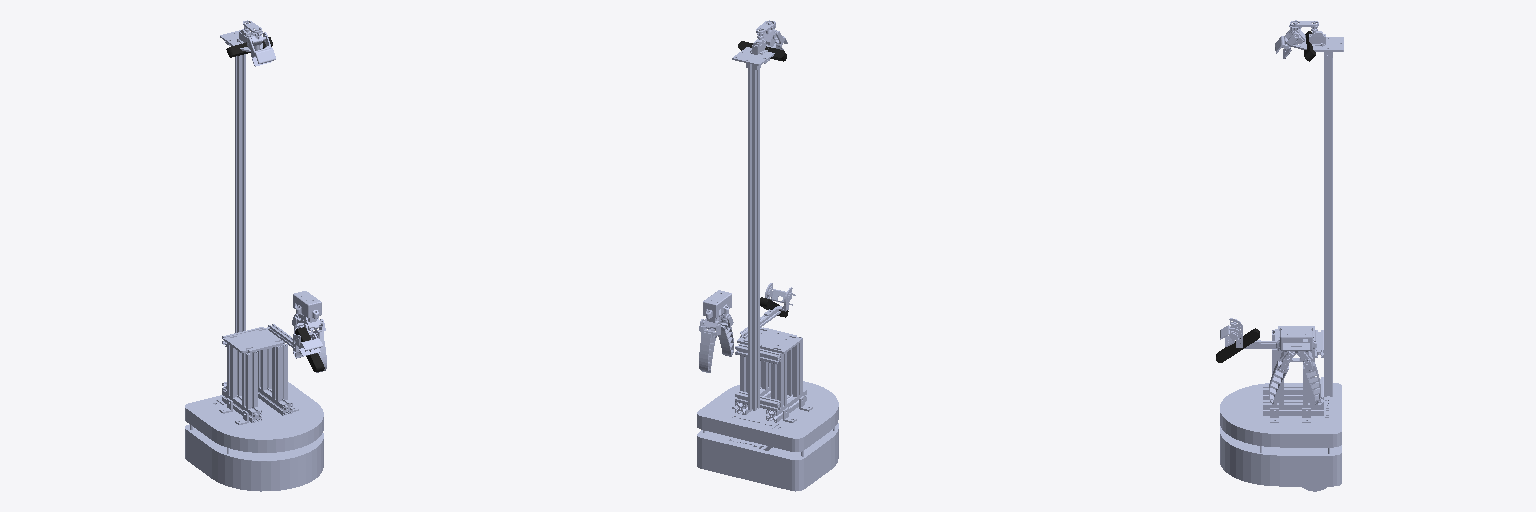
--- Render facts (derived) ---
3 views of the same robot in one strip: view 1: azimuth 30°, elevation 25°; view 2: azimuth 150°, elevation 25°; view 3: azimuth 270°, elevation 25° (orthographic).
Robot: dashgo — 32 links, 31 joints (11 revolute, 6 continuous, 2 prismatic, 12 fixed); root link internal_odom; default pose: all joints at 0 but 1 set to mid-range because 0 is outside their limits (Rev2Servo = 0.405).
Links seen in each view (by area): view 1: Base, Base_Gripper; view 2: Base, Base_Gripper; view 3: Base, Base_Gripper.
Boxes of the visible links, left/top/right/bottom form: Base: left=185, top=20, right=323, bottom=491; Base_Gripper: left=293, top=291, right=321, bottom=330; Base: left=697, top=20, right=838, bottom=491; Base_Gripper: left=703, top=290, right=731, bottom=330; Base: left=1220, top=20, right=1343, bottom=486; Base_Gripper: left=1276, top=330, right=1316, bottom=361.
Size in the robot's own frame: 0.4483 by 0.4312 by 1.66 metres.
Meshes: 25 distinct files referenced, 19 mesh visuals loaded (19 binary STL); not drawn: 6 (reference not matched to a file when rendering).

URDF robot description (dashgo):
<?xml version="1.0" ?>
<!-- =================================================================================== -->
<!-- |    This document was autogenerated by xacro from [local-path]/Desktop/Roborregos/Robocup-Home/catkin_home/src/robot_description/urdf/dashgo.urdf.xacro | -->
<!-- |    EDITING THIS FILE BY HAND IS NOT RECOMMENDED                                 | -->
<!-- =================================================================================== -->
<!-- This URDF was automatically created by SolidWorks to URDF Exporter! Originally created by Stephen Brawner ([email redacted]) 
     Commit Version: 1.6.0-4-g7f85cfe  Build Version: 1.6.7995.38578
     For more information, please see http://wiki.ros.org/sw_urdf_exporter -->
<robot name="dashgo">
    <virtual_joint child_link="internal_odom" name="world_joint" parent_frame="odom" type="planar" />
    <!-- ############################BASE_MOVEMENT############################## -->
    <link name="internal_odom" />
    <joint name="internal_odom_joint" type="fixed">
        <origin rpy="0 0 0" xyz="0 0 0" />
        <parent link="internal_odom" />
        <child link="internal_odom_inertia" />
    </joint>
    <link name="internal_odom_inertia">
        <inertial>
            <mass value="0.10" />
            <!--  assume as square, hence inertia = (1/12) * m * (a^2 + b^2)  -->
            <inertia ixx="0.000729" ixy="0" ixz="0" iyy="0.000729" iyz="0" izz="0.000729" />
        </inertial>
    </link>
    <joint name="odom_y" type="prismatic">
        <axis xyz="0 1 0" />
        <parent link="internal_odom_inertia" />
        <child link="odom_yx_link" />
        <limit effort="1" lower="0" upper="0" velocity="0.4" />
        <dynamics damping="0.7" friction="2" />
    </joint>
    <link name="odom_yx_link">
        <inertial>
            <mass value="0.10" />
            <!--  assume as square, hence inertia = (1/12) * m * (a^2 + b^2)  -->
            <inertia ixx="0.000729" ixy="0" ixz="0" iyy="0.000729" iyz="0" izz="0.000729" />
        </inertial>
    </link>
    <joint name="odom_x" type="prismatic">
        <axis xyz="1 0 0" />
        <parent link="odom_yx_link" />
        <child link="odom_xr_link" />
        <limit effort="1" lower="-10" upper="10" velocity="0.4" />
        <dynamics damping="0.7" friction="2" />
    </joint>
    <link name="odom_xr_link">
        <inertial>
            <mass value="0.10" />
            <!--  assume as square, hence inertia = (1/12) * m * (a^2 + b^2)  -->
            <inertia ixx="0.000729" ixy="0" ixz="0" iyy="0.000729" iyz="0" izz="0.000729" />
        </inertial>
    </link>
    <joint name="odom_r" type="revolute">
        <axis xyz="0 0 1" />
        <parent link="odom_xr_link" />
        <child link="base_link" />
        <limit effort="1" lower="-6.2832" upper="6.2832" velocity="0.4" />
        <dynamics damping="0.7" friction="2" />
    </joint>
    <!-- ########################################################################### -->
    <link name="base_link" />
    <link name="Base">
        <inertial>
            <origin rpy="0 0 0" xyz="0.00112427313846248 0.0541261508672339 0.24050906361582" />
            <mass value="5.93374358050292" />
            <inertia ixx="0.102381643014475" ixy="-2.49686782363747E-05" ixz="7.32458903286202E-10" iyy="0.103854959010774" iyz="0.000125261050360604" izz="0.0793094023514086" />
        </inertial>
        <visual>
            <origin rpy="0 0 0" xyz="0 0 0" />
            <geometry>
                <mesh filename="package://robot_description/meshes/Dashgo/Base.STL" />
            </geometry>
            <material name="">
                <color rgba="0.792156862745098 0.819607843137255 0.933333333333333 1" />
            </material>
        </visual>
        <collision>
            <origin rpy="0 0 0" xyz="0 0 0" />
            <geometry>
                <mesh filename="package://robot_description/meshes/Dashgo/Base.STL" />
            </geometry>
        </collision>
    </link>
    <joint name="base_joint" type="fixed">
        <origin rpy="0 0 0" xyz="0 0 0" />
        <parent link="base_link" />
        <child link="Base" />
    </joint>
    <link name="Llanta1">
        <inertial>
            <origin rpy="0 0 0" xyz="3.88578058618805E-16 6.52256026967279E-16 0.0200000000000003" />
            <mass value="0.528918539158378" />
            <inertia ixx="0.000631308353030454" ixy="-1.64320882748444E-36" ixz="1.72050413075699E-18" iyy="0.000631308353030454" iyz="-1.04568558444466E-36" izz="0.00112157176228534" />
        </inertial>
        <visual>
            <origin rpy="0 0 0" xyz="0 0 0" />
            <geometry>
                <mesh filename="package://robot_description/meshes/Dashgo/Llanta1.STL" />
            </geometry>
            <material name="">
                <color rgba="0.792156862745098 0.819607843137255 0.933333333333333 1" />
            </material>
        </visual>
        <collision>
            <origin rpy="0 0 0" xyz="0 0 0" />
            <geometry>
                <mesh filename="package://robot_description/meshes/Dashgo/Llanta1.STL" />
            </geometry>
        </collision>
    </link>
    <joint name="Llanta1Cont" type="continuous">
        <origin rpy="1.5707963267949 0 1.5707963267949" xyz="0.145999999999999 0.1155 0.0375" />
        <parent link="Base" />
        <child link="Llanta1" />
        <axis xyz="0 0 1" />
    </joint>
    <link name="Llanta2">
        <inertial>
            <origin rpy="0 0 0" xyz="-1.38777878078145E-17 -1.11022302462516E-16 -0.02" />
            <mass value="0.528918539158378" />
            <inertia ixx="0.000631308353030454" ixy="-8.470329472543E-22" ixz="-9.10263751530836E-20" iyy="0.000631308353030454" iyz="4.50857846912387E-20" izz="0.00112157176228534" />
        </inertial>
        <visual>
            <origin rpy="0 0 0" xyz="0 0 0" />
            <geometry>
                <mesh filename="package://robot_description/meshes/Dashgo/Llanta2.STL" />
            </geometry>
            <material name="">
                <color rgba="0.792156862745098 0.819607843137255 0.933333333333333 1" />
            </material>
        </visual>
        <collision>
            <origin rpy="0 0 0" xyz="0 0 0" />
            <geometry>
                <mesh filename="package://robot_description/meshes/Dashgo/Llanta2.STL" />
            </geometry>
        </collision>
    </link>
    <joint name="Llanta2Cont" type="continuous">
        <origin rpy="1.5707963267949 0.0209487637131551 1.5707963267949" xyz="-0.146 0.1155 0.0375" />
        <parent link="Base" />
        <child link="Llanta2" />
        <axis xyz="0 0 1" />
    </joint>
    <link name="Loca1">
        <inertial>
            <origin rpy="0 0 0" xyz="0 0.0345546529721542 -2.77555756156289E-17" />
            <mass value="0.0167352759899297" />
            <inertia ixx="7.54150196205056E-06" ixy="1.16160786447369E-21" ixz="-8.76254817321673E-22" iyy="5.85653067123054E-06" iyz="-1.79120955050736E-21" izz="7.09027556219276E-06" />
        </inertial>
        <visual>
            <origin rpy="0 0 0" xyz="0 0 0" />
            <geometry>
                <mesh filename="package://robot_description/meshes/Dashgo/Loca1.STL" />
            </geometry>
            <material name="">
                <color rgba="0.792156862745098 0.819607843137255 0.933333333333333 1" />
            </material>
        </visual>
        <collision>
            <origin rpy="0 0 0" xyz="0 0 0" />
            <geometry>
                <mesh filename="package://robot_description/meshes/Dashgo/Loca1.STL" />
            </geometry>
        </collision>
    </link>
    <joint name="Loca1Cont" type="continuous">
        <origin rpy="1.5707963267949 0 0" xyz="-0.09 -0.072 0" />
        <parent link="Base" />
        <child link="Loca1" />
        <axis xyz="0 1 0" />
    </joint>
    <link name="LlantaLoca1">
        <inertial>
            <origin rpy="0 0 0" xyz="1.38777878078145E-17 -0.00741632050454701 1.38777878078145E-17" />
            <mass value="0.0694291976443345" />
            <inertia ixx="3.17985725211052E-05" ixy="-5.21349495168481E-38" ixz="3.52930394689292E-22" iyy="1.95153903045283E-05" iyz="7.67877008722515E-41" izz="1.95153903045283E-05" />
        </inertial>
        <visual>
            <origin rpy="0 0 0" xyz="0 0 0" />
            <geometry>
                <mesh filename="package://robot_description/meshes/Dashgo/LlantaLoca1.STL" />
            </geometry>
            <material name="">
                <color rgba="0.792156862745098 0.819607843137255 0.933333333333333 1" />
            </material>
        </visual>
        <collision>
            <origin rpy="0 0 0" xyz="0 0 0" />
            <geometry>
                <mesh filename="package://robot_description/meshes/Dashgo/LlantaLoca1.STL" />
            </geometry>
        </collision>
    </link>
    <joint name="LlantaLoca1Cont" type="continuous">
        <origin rpy="0 0 0" xyz="0 0.01 0" />
        <parent link="Loca1" />
        <child link="LlantaLoca1" />
        <axis xyz="1 0 0" />
    </joint>
    <link name="Loca2">
        <inertial>
            <origin rpy="0 0 0" xyz="1.38777878078145E-17 0.0345546529721542 2.77555756156289E-17" />
            <mass value="0.0167352759899297" />
            <inertia ixx="7.54150196205057E-06" ixy="-2.55901620932607E-21" ixz="3.17637355220363E-22" iyy="5.85653067123054E-06" iyz="2.07178253258396E-21" izz="7.09027556219276E-06" />
        </inertial>
        <visual>
            <origin rpy="0 0 0" xyz="0 0 0" />
            <geometry>
                <mesh filename="package://robot_description/meshes/Dashgo/Loca2.STL" />
            </geometry>
            <material name="">
                <color rgba="0.792156862745098 0.819607843137255 0.933333333333333 1" />
            </material>
        </visual>
        <collision>
            <origin rpy="0 0 0" xyz="0 0 0" />
            <geometry>
                <mesh filename="package://robot_description/meshes/Dashgo/Loca2.STL" />
            </geometry>
        </collision>
    </link>
    <joint name="Loca2Cont" type="continuous">
        <origin rpy="1.5707963267949 0 0.119243381039157" xyz="0.09 -0.072 0" />
        <parent link="Base" />
        <child link="Loca2" />
        <axis xyz="0 1 0" />
    </joint>
    <link name="LlantaLoca2">
        <inertial>
            <origin rpy="0 0 0" xyz="0 -0.00469061857919597 -0.00574455456677592" />
            <mass value="0.0694291976443344" />
            <inertia ixx="3.17985725211052E-05" ixy="-8.78796682776337E-21" ixz="8.470329472543E-22" iyy="1.95153903045283E-05" iyz="-1.6940658945086E-21" izz="1.95153903045284E-05" />
        </inertial>
        <visual>
            <origin rpy="0 0 0" xyz="0 0 0" />
            <geometry>
                <mesh filename="package://robot_description/meshes/Dashgo/LlantaLoca2.STL" />
            </geometry>
            <material name="">
                <color rgba="0.792156862745098 0.819607843137255 0.933333333333333 1" />
            </material>
        </visual>
        <collision>
            <origin rpy="0 0 0" xyz="0 0 0" />
            <geometry>
                <mesh filename="package://robot_description/meshes/Dashgo/LlantaLoca2.STL" />
            </geometry>
        </collision>
    </link>
    <joint name="LlantaLoca2Cont" type="continuous">
        <origin rpy="-0.886055251315474 0 0" xyz="0 0.01 0" />
        <parent link="Loca2" />
        <child link="LlantaLoca2" />
        <axis xyz="1 0 0" />
    </joint>
    <link name="Lidar">
        <inertial>
            <origin rpy="0 0 0" xyz="-9.49517221724887E-50 0.0125 -1.38777878078145E-17" />
            <mass value="0.0962112750161874" />
            <inertia ixx="3.44757068808005E-05" ixy="8.13422838622583E-38" ixz="1.3254524700622E-52" iyy="5.89294059474148E-05" iyz="-6.00991536754997E-37" izz="3.44757068808005E-05" />
        </inertial>
        <visual>
            <origin rpy="0 0 0" xyz="0 0 0" />
            <geometry>
                <mesh filename="package://robot_description/meshes/Dashgo/Lidar.STL" />
            </geometry>
            <material name="">
                <color rgba="0.792156862745098 0.819607843137255 0.933333333333333 1" />
            </material>
        </visual>
        <collision>
            <origin rpy="0 0 0" xyz="0 0 0" />
            <geometry>
                <mesh filename="package://robot_description/meshes/Dashgo/Lidar.STL" />
            </geometry>
        </collision>
    </link>
    <joint name="Lidar1Cont" type="fixed">
        <origin rpy="1.5707963267949 0 0" xyz="0 -0.11 0.12" />
        <parent link="Base" />
        <child link="Lidar" />
    </joint>
    <link name="RevCam1">
        <inertial>
            <origin rpy="0 0 0" xyz="-0.00218640113558178 0.0383778465870379 -0.00515828443968216" />
            <mass value="0.0807173201754215" />
            <inertia ixx="2.37796512993046E-05" ixy="8.55530391588451E-07" ixz="-2.49698267928072E-07" iyy="1.83589770932126E-05" iyz="-4.19202714077016E-06" izz="2.27836705307722E-05" />
        </inertial>
        <visual>
            <origin rpy="0 0 0" xyz="0 0 0" />
            <geometry>
                <mesh filename="package://robot_description/meshes/Dashgo/RevCam1.STL" />
            </geometry>
            <material name="">
                <color rgba="0.792156862745098 0.819607843137255 0.933333333333333 1" />
            </material>
        </visual>
        <collision>
            <origin rpy="0 0 0" xyz="0 0 0" />
            <geometry>
                <mesh filename="package://robot_description/meshes/Dashgo/RevCam1.STL" />
            </geometry>
        </collision>
    </link>
    <joint name="Cam1Rev1" type="revolute">
        <origin rpy="1.5708 0 0.034703" xyz="0.001 0.0505 1.545" />
        <parent link="Base" />
        <child link="RevCam1" />
        <axis xyz="0 1 0" />
        <limit effort="0" lower="-0.5236" upper="0.5236" velocity="0" />
    </joint>
    <link name="RevCam2">
        <inertial>
            <origin rpy="0 0 0" xyz="-0.00391793043436037 -0.0102932368661919 0.0320850186207662" />
            <mass value="0.0649807233686399" />
            <inertia ixx="2.601013236039E-05" ixy="-1.98669220487697E-07" ixz="-5.07308429498073E-06" iyy="4.18390847409689E-05" iyz="3.16753039765753E-07" izz="3.84670102617888E-05" />
        </inertial>
        <visual>
            <origin rpy="0 0 0" xyz="0 0 0" />
            <geometry>
                <mesh filename="package://robot_description/meshes/Dashgo/RevCam2.STL" />
            </geometry>
            <material name="">
                <color rgba="0.792156862745098 0.819607843137255 0.933333333333333 1" />
            </material>
        </visual>
        <collision>
            <origin rpy="0 0 0" xyz="0 0 0" />
            <geometry>
                <mesh filename="package://robot_description/meshes/Dashgo/RevCam2.STL" />
            </geometry>
        </collision>
    </link>
    <joint name="Cam1Rev2" type="revolute">
        <origin rpy="0.0 0.0 0.0" xyz="0 0.05 0" />
        <parent link="RevCam1" />
        <child link="RevCam2" />
        <axis xyz="0.9913 0 0.13162" />
        <limit effort="0" lower="-0.5236" upper="0.5236" velocity="0" />
    </joint>
    <link name="Cam1">
        <inertial>
            <origin rpy="0 0 0" xyz="0.0 0.0 0.0" />
            <mass value="0.152258268245259" />
            <inertia ixx="2.28182702795267E-05" ixy="-2.56241481012795E-09" ixz="-6.38770400261561E-09" iyy="0.000372324880916607" iyz="-3.15065555476608E-08" izz="0.000374741839243315" />
        </inertial>
        <visual>
            <origin rpy="3.1416 3.1416 1.57" xyz="-0.02 0 -0.035" />
            <geometry>
                <mesh filename="package://robot_description/meshes/Dashgo/Cam1.STL" />
            </geometry>
            <material name="">
                <color rgba="0.176470588235294 0.176470588235294 0.176470588235294 1" />
            </material>
        </visual>
        <collision>
            <origin rpy="0 0 0" xyz="0 0 0" />
            <geometry>
                <mesh filename="package://robot_description/meshes/Dashgo/Cam1.STL" />
            </geometry>
        </collision>
    </link>
    <joint name="Cam1Fix" type="fixed">
        <origin rpy="0 0.822 -1.54" xyz="0.001 0.1 1.5325" />
        <parent link="Base" />
        <child link="Cam1" />
        <axis xyz="0 0 0" />
    </joint>
    <link name="BaseBrazo">
        <inertial>
            <origin rpy="0 0 0" xyz="3.67638287580227E-16 4.9999999999939E-05 -6.24500451351651E-17" />
            <mass value="0.00121022002997899" />
            <inertia ixx="1.17272637070328E-06" ixy="6.31088724176809E-28" ixz="-2.66571877092316E-23" iyy="2.34545072437318E-06" iyz="8.8102553557097E-43" izz="1.17272637070328E-06" />
        </inertial>
        <visual>
            <origin rpy="0 0 0" xyz="0 0 0" />
            <geometry>
                <mesh filename="package://robot_description/meshes/Dashgo/BaseBrazo.STL" />
            </geometry>
            <material name="">
                <color rgba="0.792156862745098 0.819607843137255 0.933333333333333 1" />
            </material>
        </visual>
        <collision>
            <origin rpy="0 0 0" xyz="0 0 0" />
            <geometry>
                <mesh filename="package://robot_description/meshes/Dashgo/BaseBrazo.STL" />
            </geometry>
        </collision>
    </link>
    <joint name="Bra1Fix" type="fixed">
        <origin rpy="0 0 0" xyz="0 0.054 0.458" />
        <parent link="Base" />
        <child link="BaseBrazo" />
        <axis xyz="0 0 0" />
    </joint>
    <link name="Cam2Rev">
        <inertial>
            <origin rpy="0 0 0" xyz="0.00682985175837994 -0.000385575645117986 -0.0349999944296163" />
            <mass value="0.034811214257021" />
            <inertia ixx="2.55962188508613E-05" ixy="-2.57231687004444E-08" ixz="-1.01276020904133E-12" iyy="2.69230048658024E-05" iyz="-2.47763740414839E-12" izz="1.54258334654207E-05" />
        </inertial>
        <visual>
            <origin rpy="0 0 0" xyz="0 0 0" />
            <geometry>
                <mesh filename="package://robot_description/meshes/Dashgo/Cam2Rev.STL" />
            </geometry>
            <material name="">
                <color rgba="0.792156862745098 0.819607843137255 0.933333333333333 1" />
            </material>
        </visual>
        <collision>
            <origin rpy="0 0 0" xyz="0 0 0" />
            <geometry>
                <mesh filename="package://robot_description/meshes/Dashgo/Cam2Rev.STL" />
            </geometry>
        </collision>
    </link>
    <joint name="Cam2Rev" type="revolute">
        <origin rpy="-1.5708 0.52947 -1.5708" xyz="0.1175 -0.16539 0.50877" />
        <parent link="Base" />
        <child link="Cam2Rev" />
        <axis xyz="0 0 1" />
        <limit effort="0" lower="-0.5236" upper="0.5236" velocity="0" />
    </joint>
    <link name="Cam2">
        <inertial>
            <origin rpy="0 0 0" xyz="2.78178449257538E-06 0.0154104478086763 0.043479722430293" />
            <mass value="0.152258366821035" />
            <inertia ixx="2.28178239715899E-05" ixy="-2.07069498673643E-09" ixz="-6.33175797043533E-09" iyy="0.000372337777425285" iyz="-1.79769097625592E-07" izz="0.000374729108133576" />
        </inertial>
        <visual>
            <origin rpy="0 0 0" xyz="0 0 0" />
            <geometry>
                <mesh filename="package://robot_description/meshes/Dashgo/Cam2.STL" />
            </geometry>
            <material name="">
                <color rgba="0.176470588235294 0.176470588235294 0.176470588235294 1" />
            </material>
        </visual>
        <collision>
            <origin rpy="0 0 0" xyz="0 0 0" />
            <geometry>
                <mesh filename="package://robot_description/meshes/Dashgo/Cam2.STL" />
            </geometry>
        </collision>
    </link>
    <joint name="Cam2Fixed" type="fixed">
        <origin rpy="1.47657636910629 1.5707963267949 0" xyz="-0.0015140313995038 0.0417760943111851 -0.034999943378925" />
        <parent link="Cam2Rev" />
        <child link="Cam2" />
        <axis xyz="0 0 0" />
    </joint>
    <!--
  Author: Jason Peng <[email redacted]>
  Contributers:
-->
    <gazebo>
        <plugin filename="libgazebo_ros_control.so" name="gazebo_ros_control">
            <robotNamespace>/xarm</robotNamespace>
            <!-- <controlPeriod>0.0001</controlPeriod> -->
            <robotSimType>gazebo_ros_control/DefaultRobotHWSim</robotSimType>
            <legacyModeNS>true</legacyModeNS>
            <!-- <preserveWorldVelocity>true</preserveWorldVelocity> -->
        </plugin>
    </gazebo>
    <joint name="world_joint" type="fixed">
        <parent link="BaseBrazo" />
        <child link="link_base" />
        <origin rpy="0 0 0" xyz="0 0 0" />
    </joint>
    <material name="Black">
        <color rgba="0.0 0.0 0.0 1.0" />
    </material>
    <material name="Red">
        <color rgba="0.8 0.0 0.0 1.0" />
    </material>
    <material name="White">
        <color rgba="1.0 1.0 1.0 1.0" />
    </material>
    <material name="Silver">
        <color rgba="0.753 0.753 0.753 1.0" />
    </material>
    <link name="link_base">
        <inertial>
            <origin rpy="0 0 0" xyz="-0.00218 -0.00023 0.08604" />
            <mass value="1.95" />
            <inertia ixx="0.004805" ixy="-8.33E-06" ixz="0.00026847" iyy="0.0050349" iyz="7.23E-06" izz="0.0025418" />
        </inertial>
        <visual>
            <origin rpy="0 0 0" xyz="0 0 0" />
            <geometry>
                <mesh filename="package://xarm_description/meshes/xarm5/visual/base_link.STL" />
            </geometry>
            <material name="White" />
        </visual>
        <collision>
            <origin rpy="0 0 0" xyz="0 0 0" />
            <geometry>
                <mesh filename="package://xarm_description/meshes/xarm5/visual/base_link.STL" />
            </geometry>
        </collision>
    </link>
    <link name="link1">
        <inertial>
            <origin rpy="0 0 0" xyz="0.00016 0.02064 -0.01556" />
            <mass value="1.85" />
            <inertia ixx="0.0046885" ixy="-8.67E-06" ixz="2.439E-05" iyy="0.0041688" iyz="0.0006114" izz="0.0024758" />
        </inertial>
        <visual>
            <origin rpy="0 0 0" xyz="0 0 0" />
            <geometry>
                <mesh filename="package://xarm_description/meshes/xarm5/visual/link1.STL" />
            </geometry>
            <material name="White" />
        </visual>
        <collision>
            <origin rpy="0 0 0" xyz="0 0 0" />
            <geometry>
                <mesh filename="package://xarm_description/meshes/xarm5/visual/link1.STL" />
            </geometry>
        </collision>
    </link>
    <joint name="joint1" type="revolute">
        <origin rpy="0 0 0" xyz="0 0 0.267" />
        <parent link="link_base" />
        <child link="link1" />
        <axis xyz="0 0 1" />
        <limit effort="50" lower="-6.283185307179586" upper="6.283185307179586" velocity="3.14" />
        <dynamics damping="10" friction="1" />
    </joint>
    <link name="link2">
        <inertial>
            <origin rpy="0 0 0" xyz="0.0351 -0.21375 0.02835" />
            <mass value="1.71" />
            <inertia ixx="0.024904" ixy="-0.004271" ixz="-0.0008356" iyy="0.004901" iyz="0.0052393" izz="0.0238188" />
        </inertial>
        <visual>
            <origin rpy="0 0 0" xyz="0 0 0" />
            <geometry>
                <mesh filename="package://xarm_description/meshes/xarm5/visual/link2.STL" />
            </geometry>
            <material name="White" />
        </visual>
        <collision>
            <origin rpy="0 0 0" xyz="0 0 0" />
            <geometry>
                <mesh filename="package://xarm_description/meshes/xarm5/visual/link2.STL" />
            </geometry>
        </collision>
    </link>
    <joint name="joint2" type="revolute">
        <origin rpy="-1.5708 0 0" xyz="0 0 0" />
        <parent link="link1" />
        <child link="link2" />
        <axis xyz="0 0 1" />
        <limit effort="50" lower="-2.059" upper="2.0944" velocity="3.14" />
        <dynamics damping="10" friction="1" />
    </joint>
    <link name="link3">
        <inertial>
            <origin rpy="0 0 0" xyz="0.06716 0.2299 -0.00249" />
            <mass value="1.74" />
            <inertia ixx="0.0335922" ixy="0.0040788" ixz="-0.0014658" iyy="0.0055857" iyz="-0.0080609" izz="0.0318905" />
        </inertial>
        <visual>
            <origin rpy="0 0 0" xyz="0 0 0" />
            <geometry>
                <mesh filename="package://xarm_description/meshes/xarm5/visual/link3.STL" />
            </geometry>
            <material name="White" />
        </visual>
        <collision>
            <origin rpy="0 0 0" xyz="0 0 0" />
            <geometry>
                <mesh filename="package://xarm_description/meshes/xarm5/visual/link3.STL" />
            </geometry>
        </collision>
    </link>
    <joint name="joint3" type="revolute">
        <origin rpy="0 0 0" xyz="0.0535 -0.2845 0" />
        <parent link="link2" />
        <child link="link3" />
        <axis xyz="0 0 1" />
        <limit effort="30" lower="-3.927" upper="0.19198" velocity="3.14" />
        <dynamics damping="5" friction="1" />
    </joint>
    <link name="link4">
        <inertial>
            <origin rpy="0 0 0" xyz="0.0636 0.02203 0.00355" />
            <mass value="1.13" />
            <inertia ixx="0.0010927" ixy="0.0003076" ixz="-0.0002076" iyy="0.0016058" iyz="-8.863E-05" izz="0.0019148" />
        </inertial>
        <visual>
            <origin rpy="0 0 0" xyz="0 0 0" />
            <geometry>
                <mesh filename="package://xarm_description/meshes/xarm5/visual/link4.STL" />
            </geometry>
            <material name="White" />
        </visual>
        <collision>
            <origin rpy="0 0 0" xyz="0 0 0" />
            <geometry>
                <mesh filename="package://xarm_description/meshes/xarm5/visual/link4.STL" />
            </geometry>
        </collision>
    </link>
    <joint name="joint4" type="revolute">
        <origin rpy="0 0 0" xyz="0.0775 0.3425 0" />
        <parent link="link3" />
        <child link="link4" />
        <axis xyz="0 0 1" />
        <limit effort="20" lower="-1.69297" upper="3.141592653589793" velocity="3.14" />
        <dynamics damping="3" friction="1" />
    </joint>
    <link name="link5">
        <inertial>
            <origin rpy="0 0 0" xyz="-3E-05 -0.00677 -0.01098" />
            <mass value="0.16" />
            <inertia ixx="9.341E-05" ixy="0.0" ixz="0.0" iyy="5.87E-05" iyz="3.57E-06" izz="1.33E-05" />
        </inertial>
        <visual>
            <origin rpy="0 0 0" xyz="0 0 0" />
            <geometry>
                <mesh filename="package://xarm_description/meshes/xarm5/visual/link5.STL" />
            </geometry>
            <material name="Silver" />
        </visual>
        <collision>
            <origin rpy="0 0 0" xyz="0 0 0" />
            <geometry>
                <mesh filename="package://xarm_description/meshes/collision/end_tool.STL" />
            </geometry>
        </collision>
    </link>
    <joint name="joint5" type="revolute">
        <origin rpy="-1.5708 0 0" xyz="0.076 0.097 0" />
        <parent link="link4" />
        <child link="link5" />
        <axis xyz="0 0 1" />
        <limit effort="20" lower="-6.283185307179586" upper="6.283185307179586" velocity="3.14" />
        <dynamics damping="3" friction="1" />
    </joint>
    <link name="link_eef" />
    <joint name="joint_eef" type="fixed">
        <origin rpy="0 0 0" xyz="0 0 0" />
        <parent link="link5" />
        <child link="link_eef" />
    </joint>
    <transmission name="tran1">
        <type>transmission_interface/SimpleTransmission</type>
        <joint name="joint1">
            <hardwareInterface>hardware_interface/PositionJointInterface</hardwareInterface>
        </joint>
        <actuator name="motor1">
            <hardwareInterface>hardware_interface/PositionJointInterface</hardwareInterface>
            <mechanicalReduction>100</mechanicalReduction>
        </actuator>
    </transmission>
    <transmission name="tran2">
        <type>transmission_interface/SimpleTransmission</type>
        <joint name="joint2">
            <hardwareInterface>hardware_interface/PositionJointInterface</hardwareInterface>
        </joint>
        <actuator name="motor2">
            <hardwareInterface>hardware_interface/PositionJointInterface</hardwareInterface>
            <mechanicalReduction>100</mechanicalReduction>
        </actuator>
    </transmission>
    <transmission name="tran3">
        <type>transmission_interface/SimpleTransmission</type>
        <joint name="joint3">
            <hardwareInterface>hardware_interface/PositionJointInterface</hardwareInterface>
        </joint>
        <actuator name="motor3">
            <hardwareInterface>hardware_interface/PositionJointInterface</hardwareInterface>
            <mechanicalReduction>100</mechanicalReduction>
        </actuator>
    </transmission>
    <transmission name="tran4">
        <type>transmission_interface/SimpleTransmission</type>
        <joint name="joint4">
            <hardwareInterface>hardware_interface/PositionJointInterface</hardwareInterface>
        </joint>
        <actuator name="motor3">
            <hardwareInterface>hardware_interface/PositionJointInterface</hardwareInterface>
            <mechanicalReduction>100</mechanicalReduction>
        </actuator>
    </transmission>
    <transmission name="tran5">
        <type>transmission_interface/SimpleTransmission</type>
        <joint name="joint5">
            <hardwareInterface>hardware_interface/PositionJointInterface</hardwareInterface>
        </joint>
        <actuator name="motor5">
            <hardwareInterface>hardware_interface/PositionJointInterface</hardwareInterface>
            <mechanicalReduction>100</mechanicalReduction>
        </actuator>
    </transmission>
    <gazebo reference="link_base">
        <selfCollide>true</selfCollide>
    </gazebo>
    <gazebo reference="link1">
        <selfCollide>true</selfCollide>
    </gazebo>
    <gazebo reference="link2">
        <selfCollide>true</selfCollide>
    </gazebo>
    <gazebo reference="link3">
        <selfCollide>true</selfCollide>
    </gazebo>
    <gazebo reference="link4">
        <selfCollide>true</selfCollide>
    </gazebo>
    <gazebo reference="link5">
        <selfCollide>true</selfCollide>
    </gazebo>
    <joint name="gripper_fix" type="fixed">
        <parent link="link_eef" />
        <child link="Base_Gripper" />
        <origin rpy="0 0 0" xyz="0 0 0.003" />
    </joint>
    <link name="Base_Gripper">
        <inertial>
            <origin rpy="0 0 0" xyz="-0.0060074 0.00022945 0.055534" />
            <mass value="0.25675" />
            <inertia ixx="0.00029732" ixy="5.577E-07" ixz="6.8196E-06" iyy="0.0001154" iyz="-6.3991E-07" izz="0.00028425" />
        </inertial>
        <visual>
            <origin rpy="0 0 0" xyz="0 0 0" />
            <geometry>
                <mesh filename="package://robot_description/meshes/Gripper/Base.STL" />
            </geometry>
            <material name="">
                <color rgba="0.79216 0.81961 0.93333 1" />
            </material>
        </visual>
        <collision>
            <origin rpy="0 0 0" xyz="0 0 0" />
            <geometry>
                <mesh filename="package://robot_description/meshes/Gripper/Base.STL" />
            </geometry>
        </collision>
    </link>
    <link name="end_effector_link" />
    <joint name="end_effector_joint" type="fixed">
        <parent link="Base_Gripper" />
        <child link="end_effector_link" />
        <origin rpy="0 0 0" xyz="0 0 0.165" />
    </joint>
    <link name="Servo1">
        <inertial>
            <origin rpy="0 0 0" xyz="-4.50497350326651E-08 0.00440252858837619 0.0186297249994029" />
            <mass value="0.0250047254852256" />
            <inertia ixx="1.36408467918995E-05" ixy="1.57759886426113E-19" ixz="-1.71524171818996E-19" iyy="3.54946158391808E-06" iyz="-1.80956359903929E-06" izz="1.22463749616553E-05" />
        </inertial>
        <visual>
            <origin rpy="0 0 0" xyz="0 0 0" />
            <geometry>
                <mesh filename="package://robot_description/meshes/Gripper/Servo1.STL" />
            </geometry>
            <material name="">
                <color rgba="0.792156862745098 0.819607843137255 0.933333333333333 1" />
            </material>
        </visual>
        <collision>
            <origin rpy="0 0 0" xyz="0 0 0" />
            <geometry>
                <mesh filename="package://robot_description/meshes/Gripper/Servo1.STL" />
            </geometry>
        </collision>
    </link>
    <joint name="Rev1Servo" type="revolute">
        <origin rpy="0 -0.36888 -1.5708" xyz="0 0.035167 0.088595" />
        <parent link="Base_Gripper" />
        <child link="Servo1" />
        <axis xyz="0 1 0" />
        <limit effort="0" lower="-0.28" upper="0.40" velocity="0" />
    </joint>
    <link name="Dedo1">
        <inertial>
            <origin rpy="0 0 0" xyz="-0.0339572900023838 -9.3618305648923E-08 0.148246675379403" />
            <mass value="0.0622990489702351" />
            <inertia ixx="0.000123328183626577" ixy="-1.22881098411723E-10" ixz="-5.84361445598599E-06" iyy="0.000126724273269253" iyz="1.57270956526926E-10" izz="1.60489416583839E-05" />
        </inertial>
        <visual>
            <origin rpy="0 0 0" xyz="0 0 0" />
            <geometry>
                <mesh filename="package://robot_description/meshes/Gripper/Dedo1.STL" />
            </geometry>
            <material name="">
                <color rgba="0.792156862745098 0.819607843137255 0.933333333333333 1" />
            </material>
        </visual>
        <collision>
            <origin rpy="0 0 0" xyz="0 0 0" />
            <geometry>
                <mesh filename="package://robot_description/meshes/Gripper/Dedo1.STL" />
            </geometry>
        </collision>
    </link>
    <joint name="Fix1Dedo" type="fixed">
        <origin rpy="0 0 0" xyz="0.035 0.0021425 -0.0685" />
        <parent link="Servo1" />
        <child link="Dedo1" />
        <axis xyz="0 0 0" />
    </joint>
    <link name="Servo2">
        <inertial>
            <origin rpy="0 0 0" xyz="-4.50497350118484E-08 0.00440252858837639 0.0186297249994028" />
            <mass value="0.0250047254852253" />
            <inertia ixx="1.36408467918995E-05" ixy="1.66044927441445E-19" ixz="-1.7205356741103E-19" iyy="3.54946158391805E-06" iyz="-1.80956359903932E-06" izz="1.22463749616553E-05" />
        </inertial>
        <visual>
            <origin rpy="0 0 0" xyz="0 0 0" />
            <geometry>
                <mesh filename="package://robot_description/meshes/Gripper/Servo2.STL" />
            </geometry>
            <material name="">
                <color rgba="0.792156862745098 0.819607843137255 0.933333333333333 1" />
            </material>
        </visual>
        <collision>
            <origin rpy="0 0 0" xyz="0 0 0" />
            <geometry>
                <mesh filename="package://robot_description/meshes/Gripper/Servo2.STL" />
            </geometry>
        </collision>
    </link>
    <joint name="Rev2Servo" type="revolute">
        <origin rpy="0 -0.12482 -1.5708" xyz="0 -0.034832 0.088595" />
        <parent link="Base_Gripper" />
        <child link="Servo2" />
        <axis xyz="0 1 0" />
        <limit effort="0" lower="0.06" upper="0.75" velocity="0" />
    </joint>
    <link name="Dedo2">
        <inertial>
            <origin rpy="0 0 0" xyz="-0.0339571351919315 -9.20512037367108E-08 0.148247430105431" />
            <mass value="0.0622996947963828" />
            <inertia ixx="0.000123327640391479" ixy="-1.34548142614061E-10" ixz="-5.84362978685844E-06" iyy="0.000126723917872848" iyz="1.53337647171162E-10" izz="1.60491213480393E-05" />
        </inertial>
        <visual>
            <origin rpy="0 0 0" xyz="0 0 0" />
            <geometry>
                <mesh filename="package://robot_description/meshes/Gripper/Dedo2.STL" />
            </geometry>
            <material name="">
                <color rgba="0.792156862745098 0.819607843137255 0.933333333333333 1" />
            </material>
        </visual>
        <collision>
            <origin rpy="0 0 0" xyz="0 0 0" />
            <geometry>
                <mesh filename="package://robot_description/meshes/Gripper/Dedo2.STL" />
            </geometry>
        </collision>
    </link>
    <joint name="Fix2Dedo" type="fixed">
        <origin rpy="0 0 -3.1416" xyz="-0.035 0.0021425 -0.0685" />
        <parent link="Servo2" />
        <child link="Dedo2" />
        <axis xyz="0 0 0" />
    </joint>
    <transmission name="trans_odom_y">
        <type>transmission_interface/SimpleTransmission</type>
        <joint name="odom_y">
            <hardwareInterface>hardware_interface/EffortJointInterface</hardwareInterface>
        </joint>
        <actuator name="odom_y_motor">
            <hardwareInterface>hardware_interface/EffortJointInterface</hardwareInterface>
            <mechanicalReduction>1</mechanicalReduction>
        </actuator>
    </transmission>
    <transmission name="trans_odom_x">
        <type>transmission_interface/SimpleTransmission</type>
        <joint name="odom_x">
            <hardwareInterface>hardware_interface/EffortJointInterface</hardwareInterface>
        </joint>
        <actuator name="odom_x_motor">
            <hardwareInterface>hardware_interface/EffortJointInterface</hardwareInterface>
            <mechanicalReduction>1</mechanicalReduction>
        </actuator>
    </transmission>
    <transmission name="trans_odom_r">
        <type>transmission_interface/SimpleTransmission</type>
        <joint name="odom_r">
            <hardwareInterface>hardware_interface/EffortJointInterface</hardwareInterface>
        </joint>
        <actuator name="odom_r_motor">
            <hardwareInterface>hardware_interface/EffortJointInterface</hardwareInterface>
            <mechanicalReduction>1</mechanicalReduction>
        </actuator>
    </transmission>
    <transmission name="trans_Llanta1Cont">
        <type>transmission_interface/SimpleTransmission</type>
        <joint name="Llanta1Cont">
            <hardwareInterface>hardware_interface/EffortJointInterface</hardwareInterface>
        </joint>
        <actuator name="Llanta1Cont_motor">
            <hardwareInterface>hardware_interface/EffortJointInterface</hardwareInterface>
            <mechanicalReduction>1</mechanicalReduction>
        </actuator>
    </transmission>
    <transmission name="trans_Llanta2Cont">
        <type>transmission_interface/SimpleTransmission</type>
        <joint name="Llanta2Cont">
            <hardwareInterface>hardware_interface/EffortJointInterface</hardwareInterface>
        </joint>
        <actuator name="Llanta2Cont_motor">
            <hardwareInterface>hardware_interface/EffortJointInterface</hardwareInterface>
            <mechanicalReduction>1</mechanicalReduction>
        </actuator>
    </transmission>
    <transmission name="trans_Loca1Cont">
        <type>transmission_interface/SimpleTransmission</type>
        <joint name="Loca1Cont">
            <hardwareInterface>hardware_interface/EffortJointInterface</hardwareInterface>
        </joint>
        <actuator name="Loca1Cont_motor">
            <hardwareInterface>hardware_interface/EffortJointInterface</hardwareInterface>
            <mechanicalReduction>1</mechanicalReduction>
        </actuator>
    </transmission>
    <transmission name="trans_LlantaLoca1Cont">
        <type>transmission_interface/SimpleTransmission</type>
        <joint name="LlantaLoca1Cont">
            <hardwareInterface>hardware_interface/EffortJointInterface</hardwareInterface>
        </joint>
        <actuator name="LlantaLoca1Cont_motor">
            <hardwareInterface>hardware_interface/EffortJointInterface</hardwareInterface>
            <mechanicalReduction>1</mechanicalReduction>
        </actuator>
    </transmission>
    <transmission name="trans_Loca2Cont">
        <type>transmission_interface/SimpleTransmission</type>
        <joint name="Loca2Cont">
            <hardwareInterface>hardware_interface/EffortJointInterface</hardwareInterface>
        </joint>
        <actuator name="Loca2Cont_motor">
            <hardwareInterface>hardware_interface/EffortJointInterface</hardwareInterface>
            <mechanicalReduction>1</mechanicalReduction>
        </actuator>
    </transmission>
    <transmission name="trans_LlantaLoca2Cont">
        <type>transmission_interface/SimpleTransmission</type>
        <joint name="LlantaLoca2Cont">
            <hardwareInterface>hardware_interface/EffortJointInterface</hardwareInterface>
        </joint>
        <actuator name="LlantaLoca2Cont_motor">
            <hardwareInterface>hardware_interface/EffortJointInterface</hardwareInterface>
            <mechanicalReduction>1</mechanicalReduction>
        </actuator>
    </transmission>
    <transmission name="trans_Cam1Rev1">
        <type>transmission_interface/SimpleTransmission</type>
        <joint name="Cam1Rev1">
            <hardwareInterface>hardware_interface/EffortJointInterface</hardwareInterface>
        </joint>
        <actuator name="Cam1Rev1_motor">
            <hardwareInterface>hardware_interface/EffortJointInterface</hardwareInterface>
            <mechanicalReduction>1</mechanicalReduction>
        </actuator>
    </transmission>
    <transmission name="trans_Cam1Rev2">
        <type>transmission_interface/SimpleTransmission</type>
        <joint name="Cam1Rev2">
            <hardwareInterface>hardware_interface/EffortJointInterface</hardwareInterface>
        </joint>
        <actuator name="Cam1Rev2_motor">
            <hardwareInterface>hardware_interface/EffortJointInterface</hardwareInterface>
            <mechanicalReduction>1</mechanicalReduction>
        </actuator>
    </transmission>
    <transmission name="trans_Cam2Rev">
        <type>transmission_interface/SimpleTransmission</type>
        <joint name="Cam2Rev">
            <hardwareInterface>hardware_interface/EffortJointInterface</hardwareInterface>
        </joint>
        <actuator name="Cam2Rev_motor">
            <hardwareInterface>hardware_interface/EffortJointInterface</hardwareInterface>
            <mechanicalReduction>1</mechanicalReduction>
        </actuator>
    </transmission>
    <transmission name="trans_Rev1Servo">
        <type>transmission_interface/SimpleTransmission</type>
        <joint name="Rev1Servo">
            <hardwareInterface>hardware_interface/EffortJointInterface</hardwareInterface>
        </joint>
        <actuator name="Rev1Servo_motor">
            <hardwareInterface>hardware_interface/EffortJointInterface</hardwareInterface>
            <mechanicalReduction>1</mechanicalReduction>
        </actuator>
    </transmission>
    <transmission name="trans_Rev2Servo">
        <type>transmission_interface/SimpleTransmission</type>
        <joint name="Rev2Servo">
            <hardwareInterface>hardware_interface/EffortJointInterface</hardwareInterface>
        </joint>
        <actuator name="Rev2Servo_motor">
            <hardwareInterface>hardware_interface/EffortJointInterface</hardwareInterface>
            <mechanicalReduction>1</mechanicalReduction>
        </actuator>
    </transmission>
</robot>
